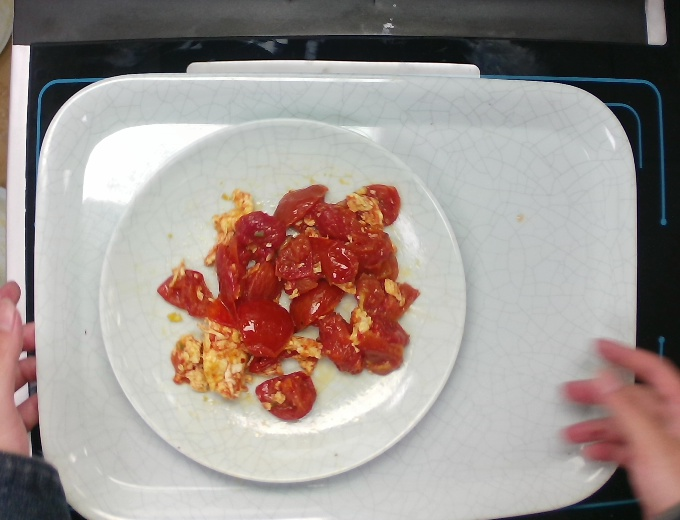JYsf-Da_Yuan_Pan: (93, 114, 480, 497)
